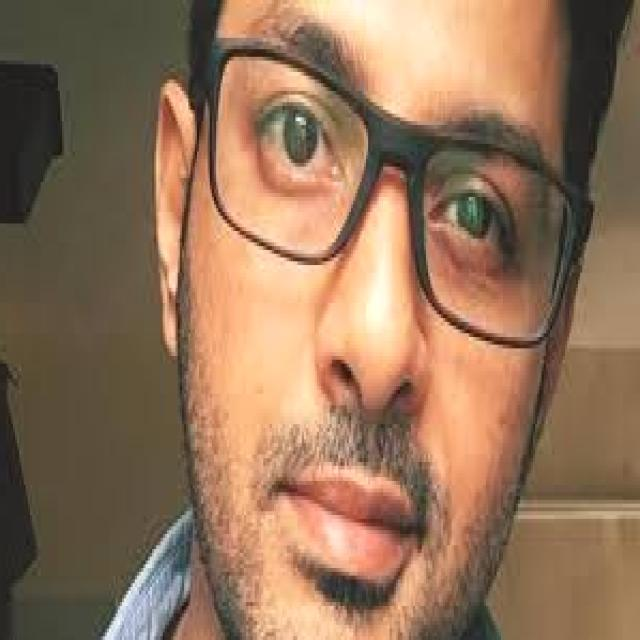stroke_face: (137, 4, 578, 640)
